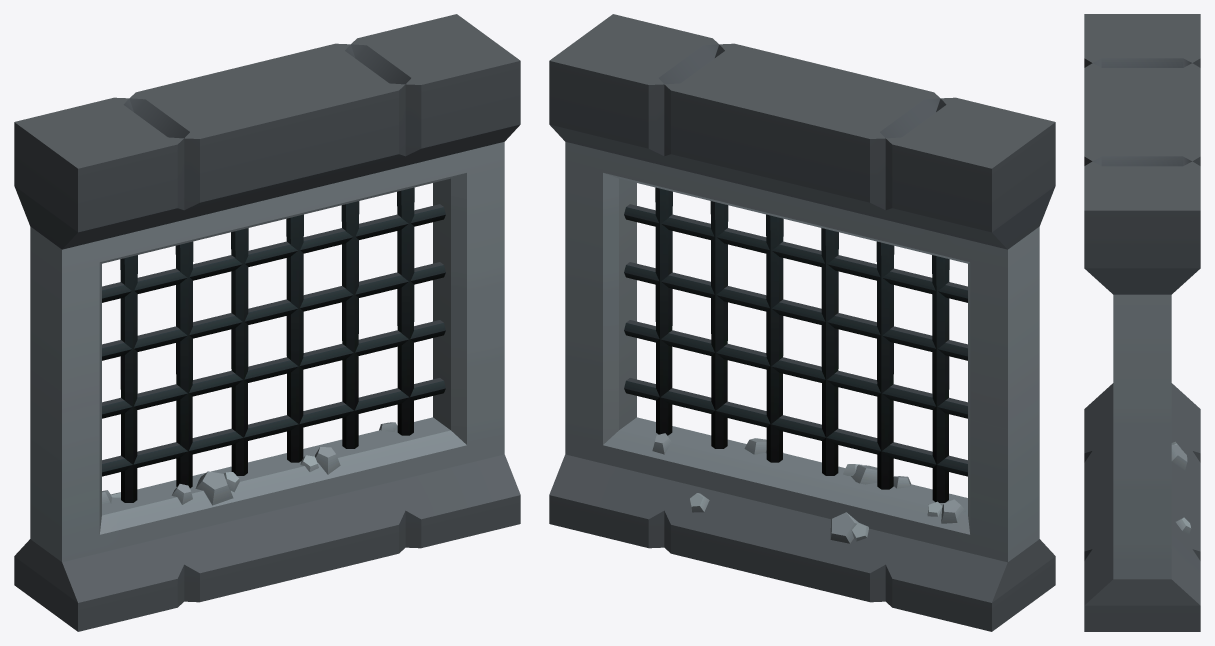
The model's file is kcas_wall_gated.glb.
3 views of the same model, side by side, from view 1: azimuth 30°, elevation 25°; view 2: azimuth 150°, elevation 25°; view 3: azimuth 270°, elevation 25° (orthographic). The views are drawn at different scales.
Parts seen in each view (by area): view 1: wall_gated; view 2: wall_gated; view 3: wall_gated.
Boxes of the visible parts, <box> form: wall_gated: <box>14,14,520,631</box>; wall_gated: <box>549,14,1055,631</box>; wall_gated: <box>1084,14,1200,631</box>.
Size of the model in its own units: 4 by 4 by 1.
1 material, 1 textured.
